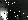person: (1, 9, 9, 20), (15, 9, 22, 20)
